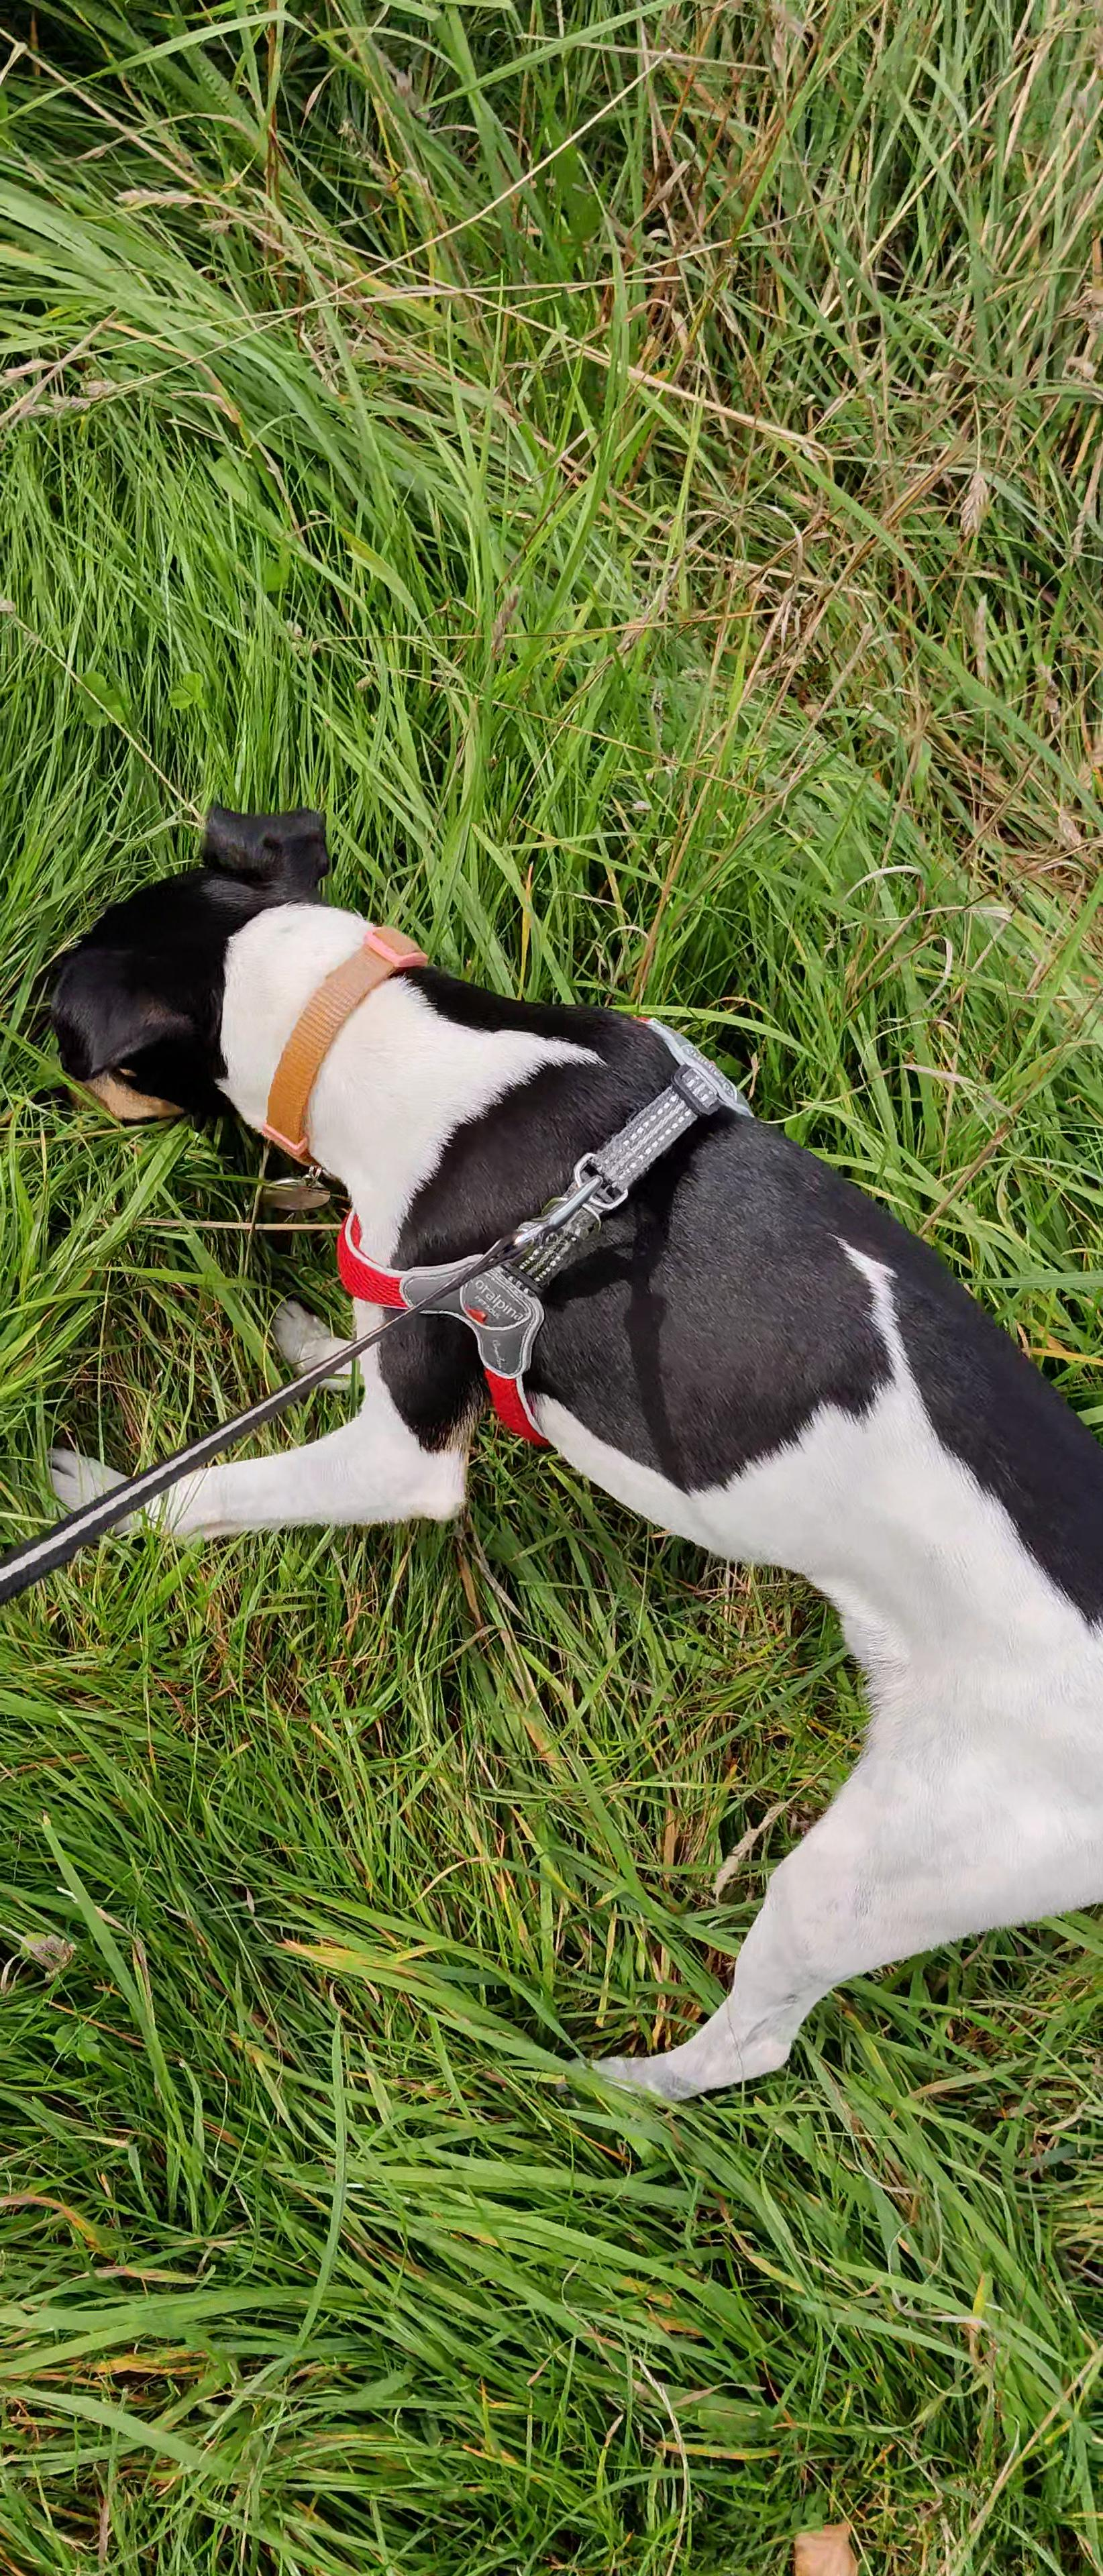Dog: (0, 793, 1103, 2104)
